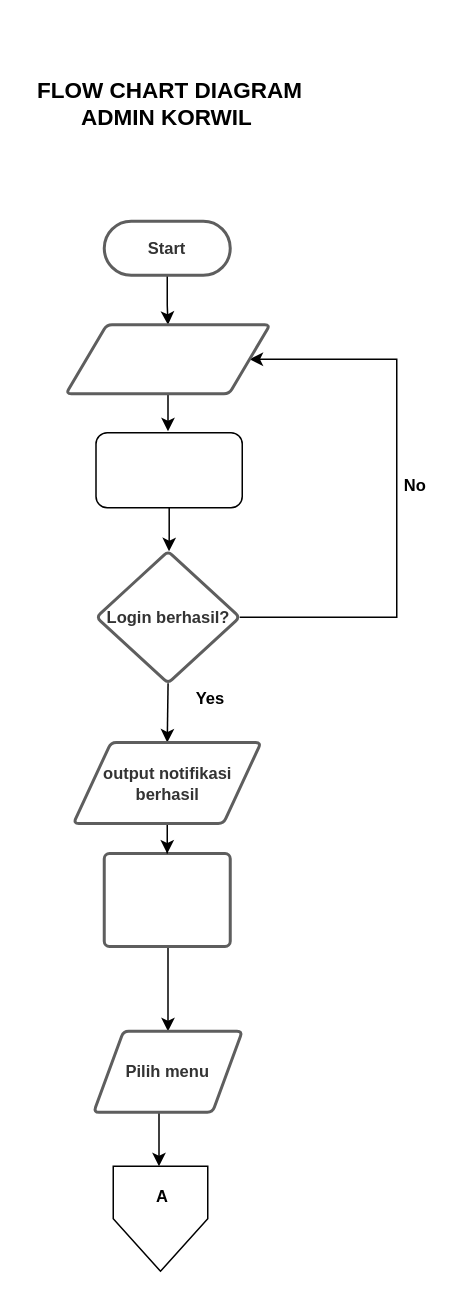
The diagram is 452 pixels wide and 1298 high, and some of its shapes have lost their labels. Each missing label, with the centre of its shape:
Dashboard Admin korwil: (x=166, y=899)
Input email dan password: (x=167, y=358)
Login: (x=168, y=469)
